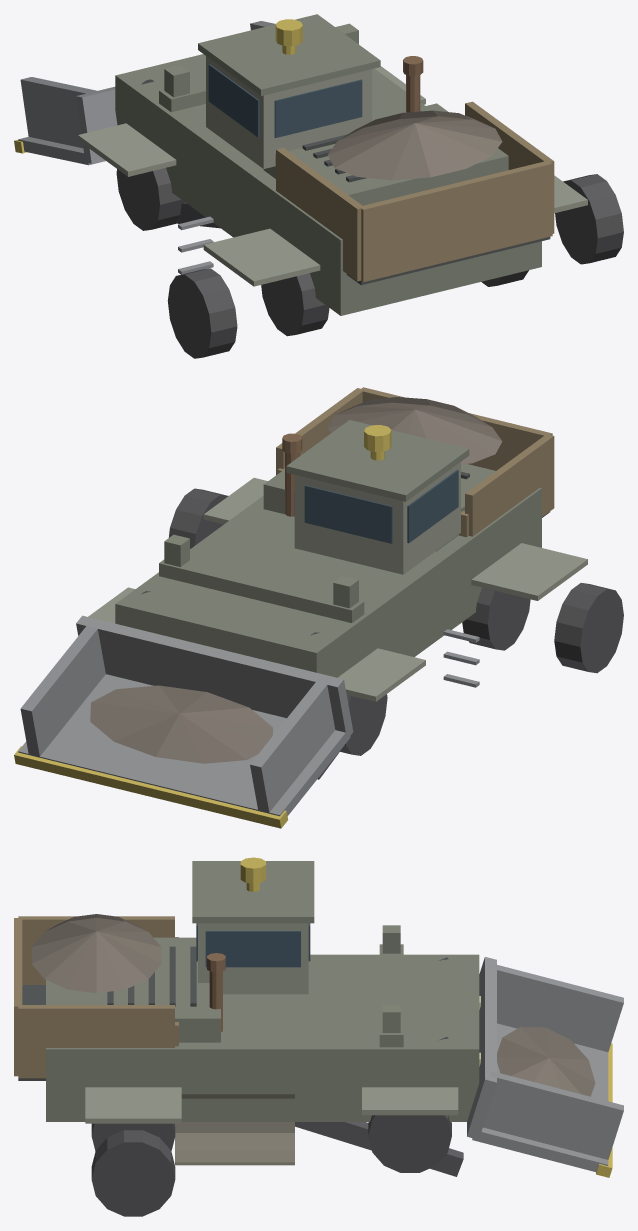
Rendered from western_harvester.glb.
The picture shows the model from 3 angles, top to bottom: view 1: azimuth 30°, elevation 25°; view 2: azimuth 150°, elevation 25°; view 3: azimuth 270°, elevation 25°; orthographic projection. The views are drawn at different scales.
Parts seen in each view (by area): view 1: hull, HopperTail, Ore, CabRoof, Bucket, Cab, wheel_l02b, Hopper_l, wheel_r02b, Hood, Mudguard_l2, CabGlassRear (+12 smaller); view 2: hull, Bucket, BucketLoad, CabRoof, Cab, BoomTower, Ore, wheel_l02b, Hopper_l, Mudguard_l2, BucketLip, CabGlassFront (+12 smaller); view 3: hull, Bucket, Ore, Hopper_r, CabRoof, wheel_r02b, FuelTank, Hood, BucketLoad, wheel_r01a, Cab, Mudguard_r2 (+12 smaller).
Boxes of the visible parts, box(x1,y1,x2,y2) form: hull: box(115, 54, 541, 315); HopperTail: box(361, 161, 552, 282); Ore: box(328, 110, 502, 180); CabRoof: box(198, 14, 380, 95); Bucket: box(18, 21, 275, 165); Cab: box(206, 56, 372, 168); wheel_l02b: box(167, 268, 237, 358); Hopper_l: box(276, 147, 364, 281); wheel_r02b: box(555, 174, 623, 264); Hood: box(263, 103, 508, 205); Mudguard_l2: box(203, 228, 320, 286); CabGlassRear: box(274, 79, 362, 137); hull: box(115, 487, 541, 677); Bucket: box(18, 615, 353, 816); BucketLoad: box(90, 685, 272, 763); CabRoof: box(286, 420, 469, 501); Cab: box(294, 462, 460, 574); BoomTower: box(159, 534, 364, 622); Ore: box(328, 397, 502, 464); wheel_l02b: box(554, 583, 623, 673); Hopper_l: box(465, 434, 554, 536); Mudguard_l2: box(471, 543, 587, 600); BucketLip: box(14, 746, 288, 828); CabGlassFront: box(304, 485, 392, 543); hull: box(46, 954, 479, 1121); Bucket: box(467, 957, 623, 1171); Ore: box(31, 914, 161, 993); Hopper_r: box(18, 1005, 174, 1078); CabRoof: box(192, 861, 314, 923); wheel_r02b: box(91, 1130, 175, 1216); FuelTank: box(175, 1094, 294, 1165); Hood: box(82, 937, 220, 1042); BucketLoad: box(497, 1026, 595, 1096); wheel_r01a: box(368, 1115, 451, 1172); Cab: box(198, 923, 308, 994); Mudguard_r2: box(85, 1087, 181, 1123).
Bounding box in the file's own units: 6.56 × 3.95 × 8.73.
